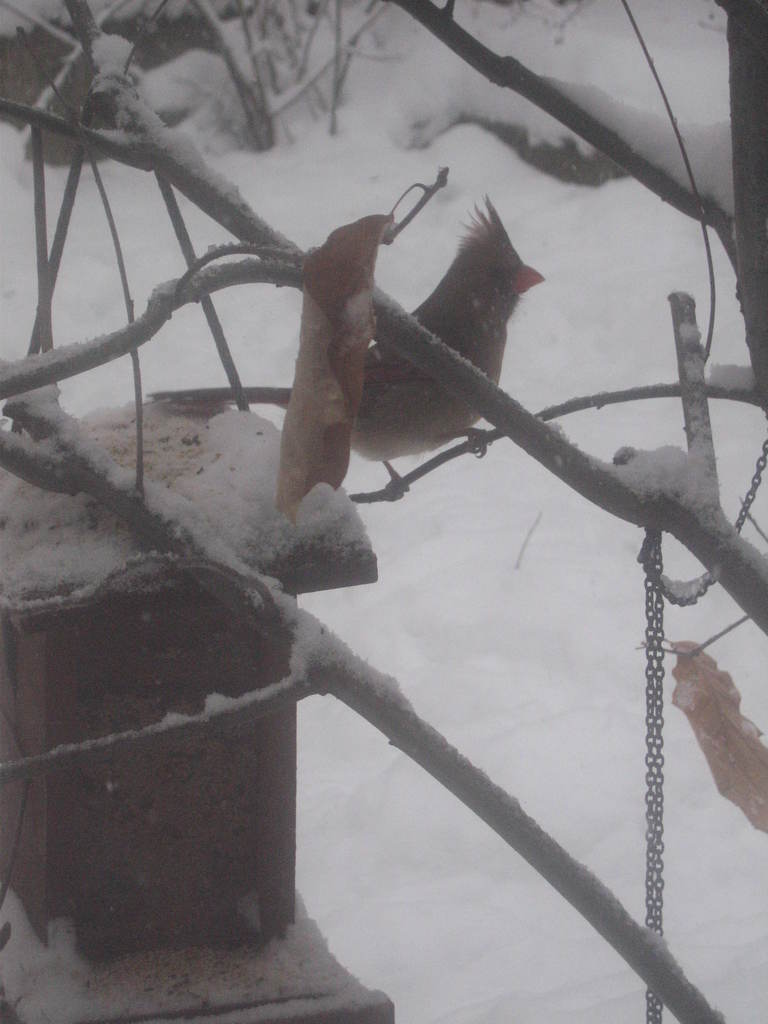Animal: (139, 198, 546, 498)
